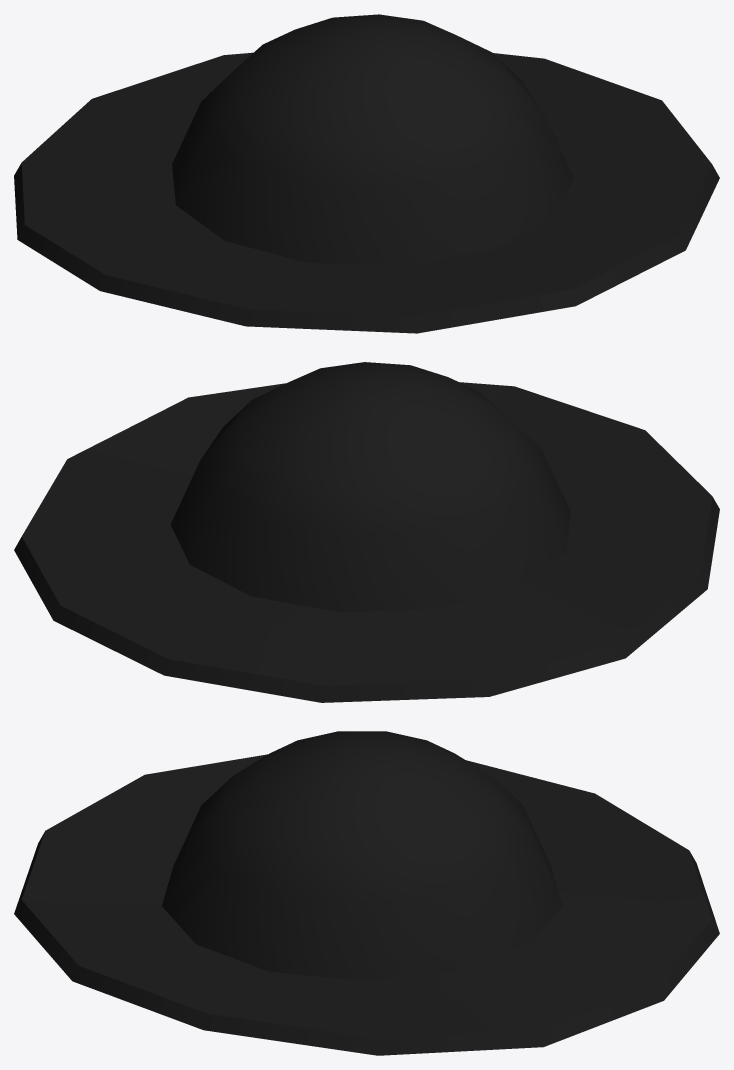
File: jRockHat.fbx
3 views of the same model, one above another, from view 1: azimuth 30°, elevation 25°; view 2: azimuth 150°, elevation 25°; view 3: azimuth 270°, elevation 25° (orthographic).
Parts seen in each view (by area): view 1: pSphere2; view 2: pSphere2; view 3: pSphere2.
Boxes of the visible parts, <box> form: pSphere2: <box>14,14,719,333</box>; pSphere2: <box>14,362,719,702</box>; pSphere2: <box>14,731,719,1055</box>.
Size of the model in its own units: 2.4 by 0.6469 by 2.43.
1 material, 1 textured.
